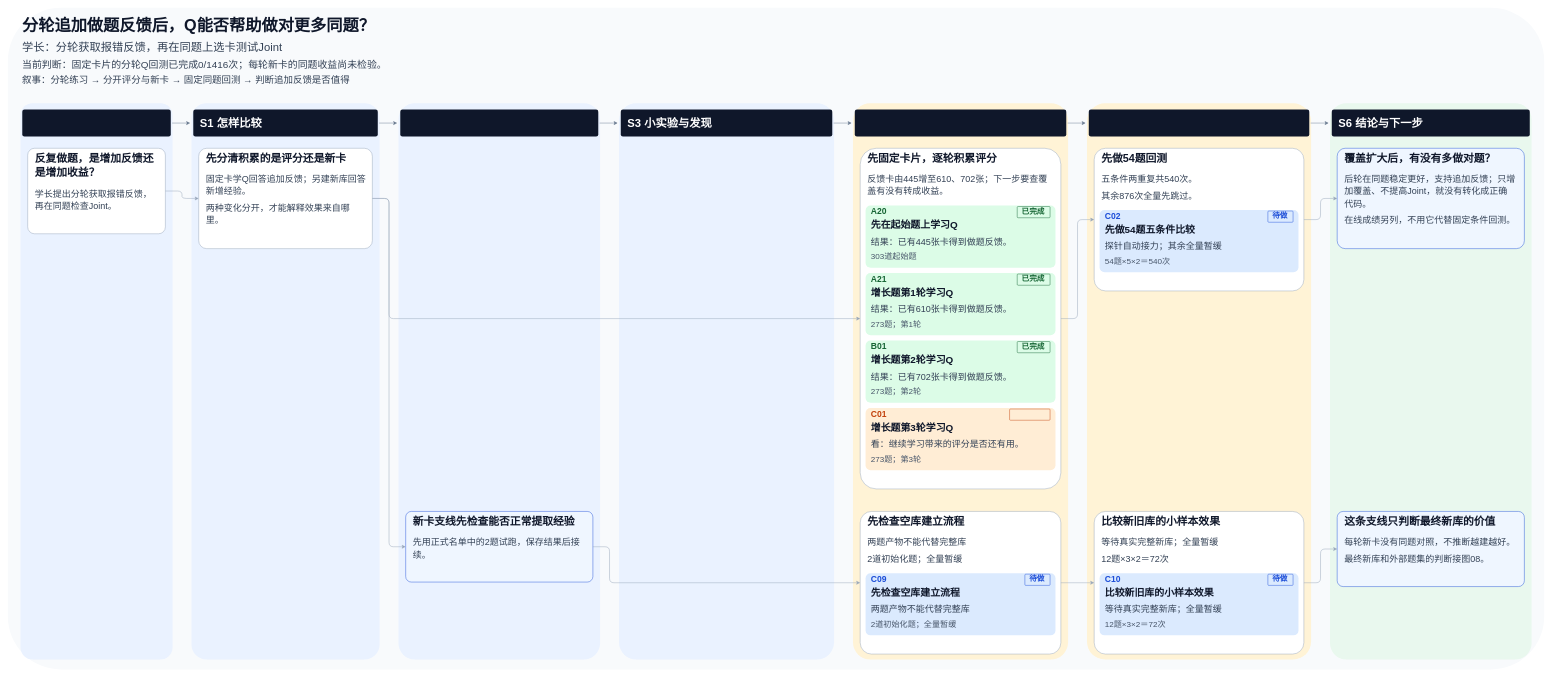
Image size: 1552x677. Some labels were removed from this diagram. Here are the shapes that lost their labels. From the top down, the centre of each, then its label:
pixel 96 122: S0 为什么做
pixel 499 122: S2 先验证哪一步
pixel 960 122: S4 继续学习或建方法
pixel 1199 122: S5 完成主要比较
pixel 1029 414: 正在运行
